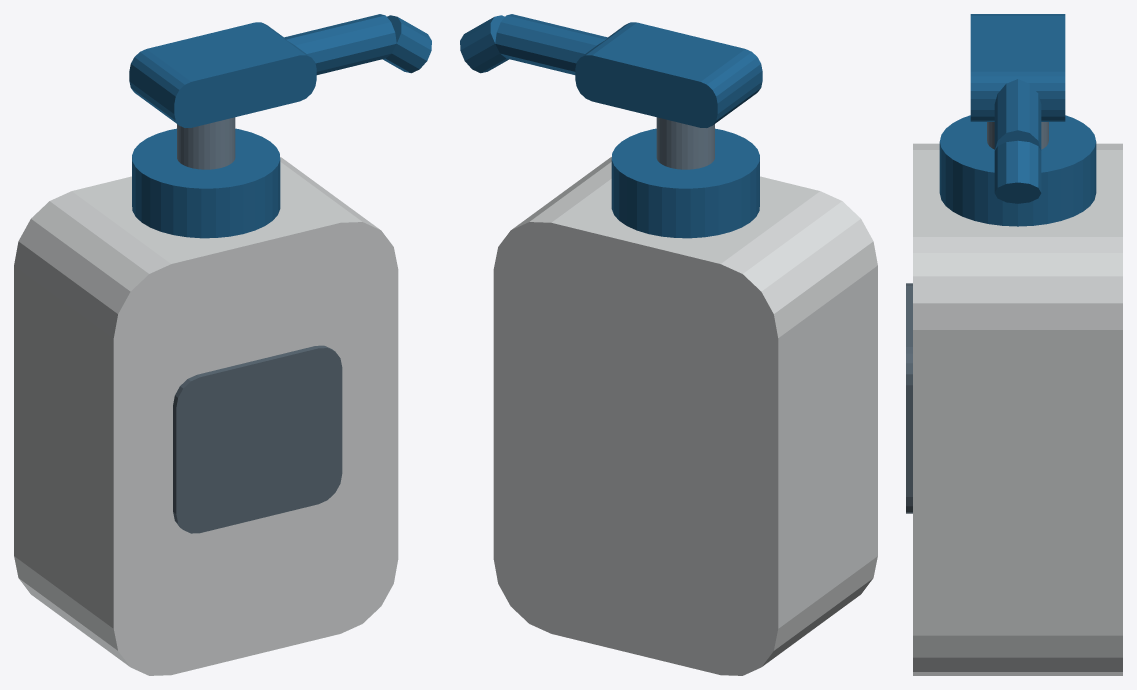
File: pump.glb
3 views of the same model, side by side, from view 1: azimuth 30°, elevation 25°; view 2: azimuth 150°, elevation 25°; view 3: azimuth 270°, elevation 25° (orthographic). The views are drawn at different scales.
Parts seen in each view (by area): view 1: bottle body, label, pump head, neck, spout0, piston, spout1; view 2: bottle body, pump head, neck, spout0, piston, spout1; view 3: bottle body, neck, pump head, spout1, spout0, label, piston.
Boxes of the visible parts, <box> form: bottle body: <box>14,157,398,675</box>; label: <box>173,345,342,533</box>; pump head: <box>129,22,316,127</box>; neck: <box>132,128,280,238</box>; spout0: <box>284,14,396,74</box>; piston: <box>177,117,235,169</box>; spout1: <box>383,15,431,73</box>; bottle body: <box>493,157,877,675</box>; pump head: <box>575,22,762,127</box>; neck: <box>611,128,759,238</box>; spout0: <box>495,14,607,74</box>; piston: <box>656,117,714,169</box>; spout1: <box>460,15,508,73</box>; bottle body: <box>913,143,1122,675</box>; neck: <box>939,115,1096,226</box>; pump head: <box>970,14,1065,121</box>; spout1: <box>994,140,1041,203</box>; spout0: <box>994,79,1041,150</box>; label: <box>906,283,912,513</box>; piston: <box>987,122,1048,149</box>.
Bounding box in the file's own units: 1.07 × 1.58 × 0.527.
